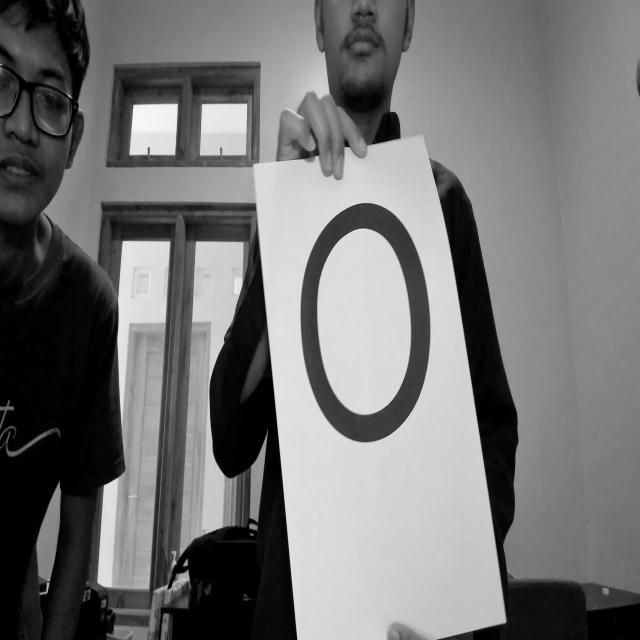o: (286, 178, 448, 465)
